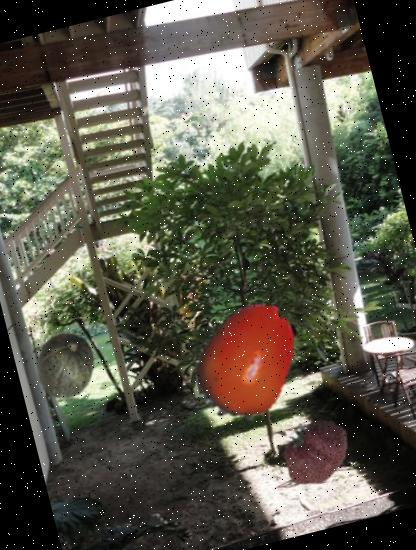Kaki: (172, 286, 322, 436)
Melon: (28, 326, 107, 405)
Strawberry: (272, 409, 358, 496)
